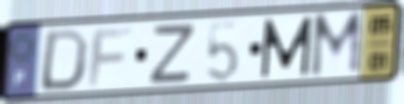5: (204, 18, 243, 83)
D: (36, 27, 92, 93)
F: (85, 24, 137, 90)
M: (307, 8, 366, 81), (259, 14, 315, 81)
Z: (145, 21, 199, 87)
